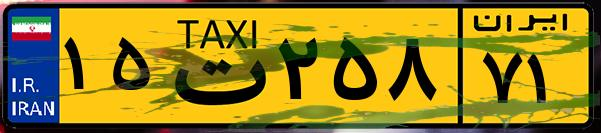1: (57, 26, 110, 100), (525, 38, 570, 115)
2: (270, 28, 330, 110)
5: (330, 28, 385, 110), (110, 28, 158, 98)
7: (475, 38, 525, 113)
8: (385, 28, 445, 110)
ت: (158, 12, 270, 120)
